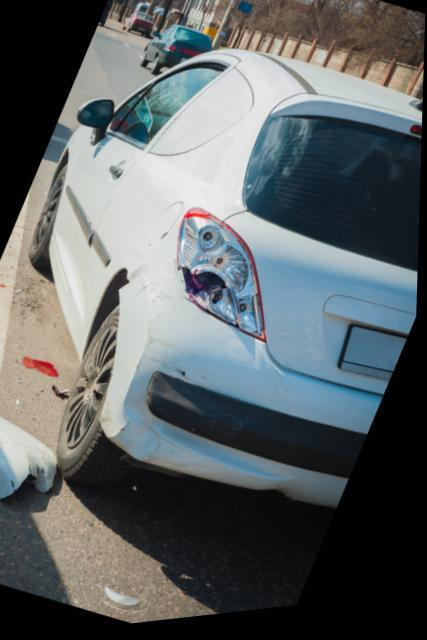dent: (126, 422, 207, 474)
lamp broken: (180, 212, 269, 348)
